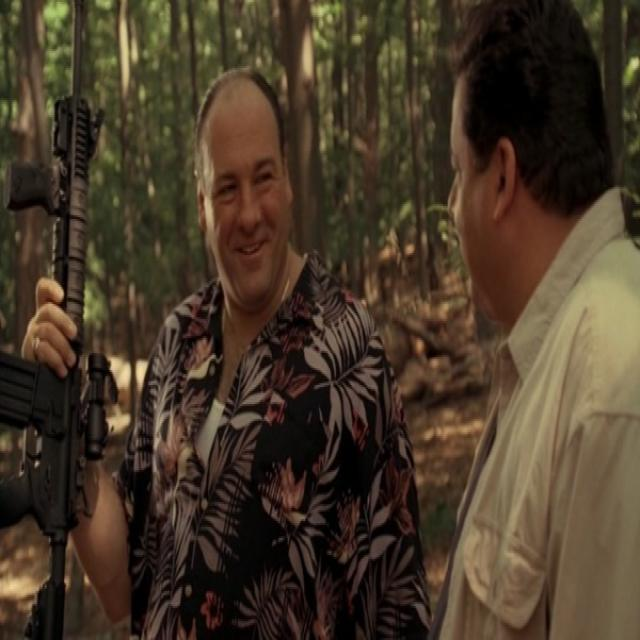rifle: (1, 1, 127, 640)
